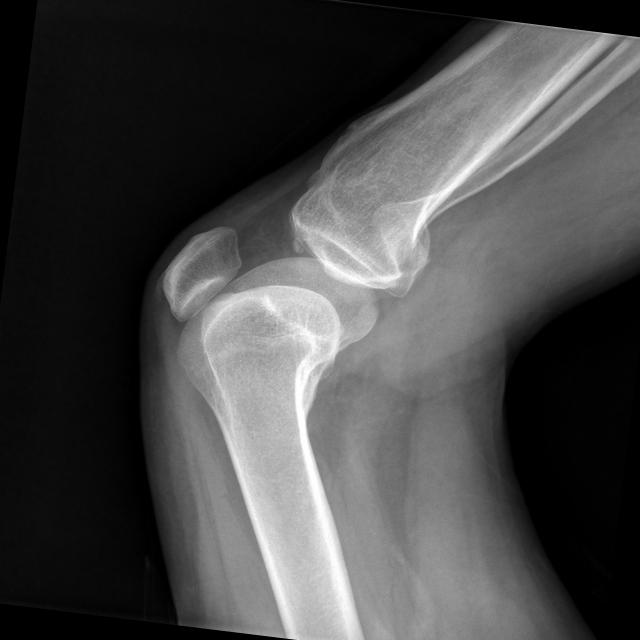Knee: (149, 171, 435, 402)
